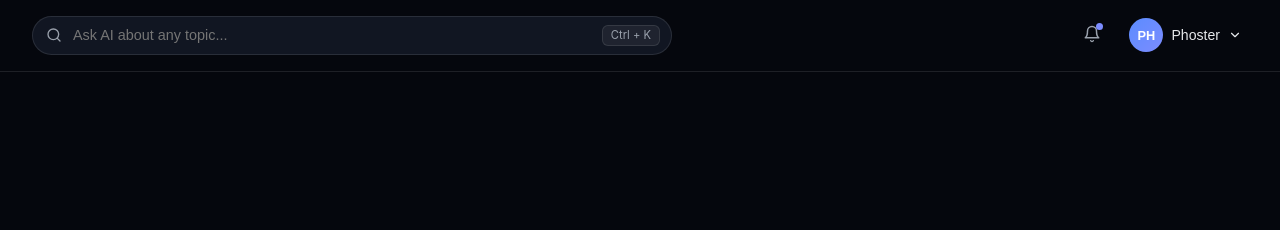
TopBar account dropdown › asks for confirmation before deleting the account
This screenshot has width=1280, height=230.
Click the text "phoster" at (1196, 35), box [1172, 27, 1220, 43]
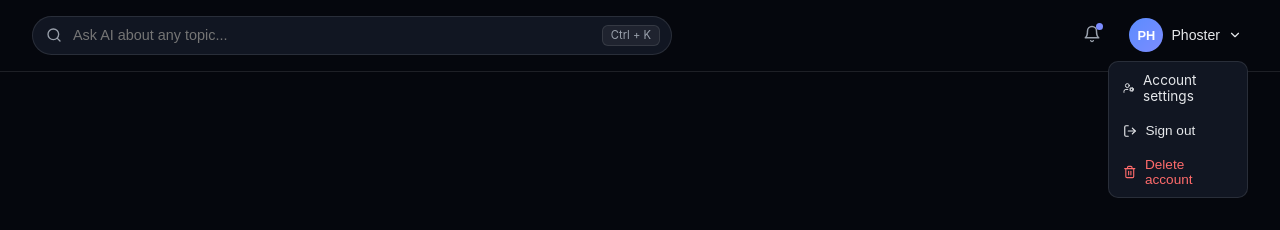
Click the button "Delete account" at (1178, 172), box [1109, 148, 1247, 197]
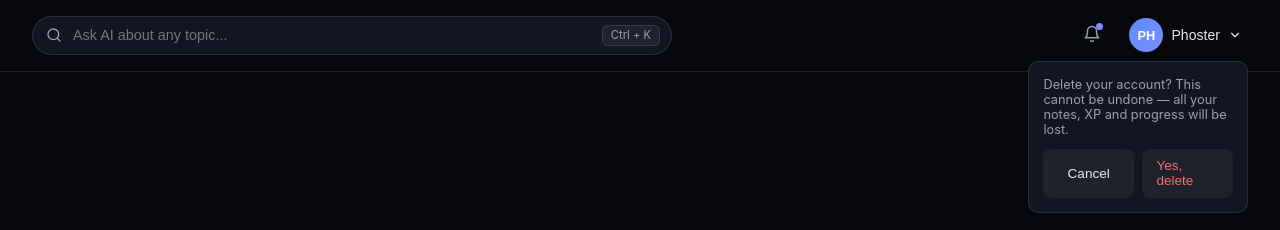
Expected: the text "This cannot be undone" is shown, [1043, 77, 1227, 137]
